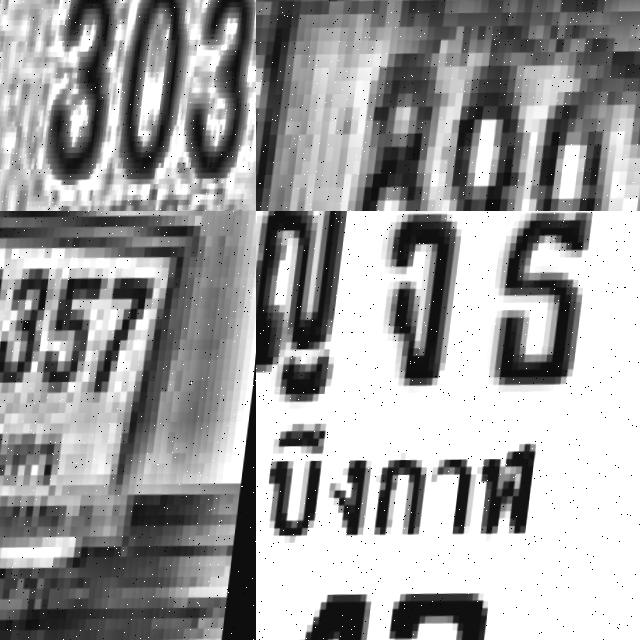license-plate: (256, 211, 640, 640), (0, 211, 256, 640), (256, 0, 640, 211), (0, 0, 256, 211)
